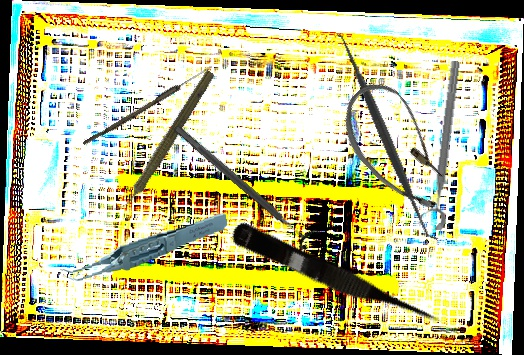Cannula: (325, 72, 472, 222)
Fixation Ring: (166, 116, 322, 254), (416, 58, 466, 232)
Handpiece: (111, 66, 218, 220)
Micro Scissor: (226, 219, 448, 339)
Spatula Surgical: (329, 27, 443, 248)
Surgical Spoon: (82, 62, 214, 149)
Tissue Forceps: (55, 211, 232, 283)
